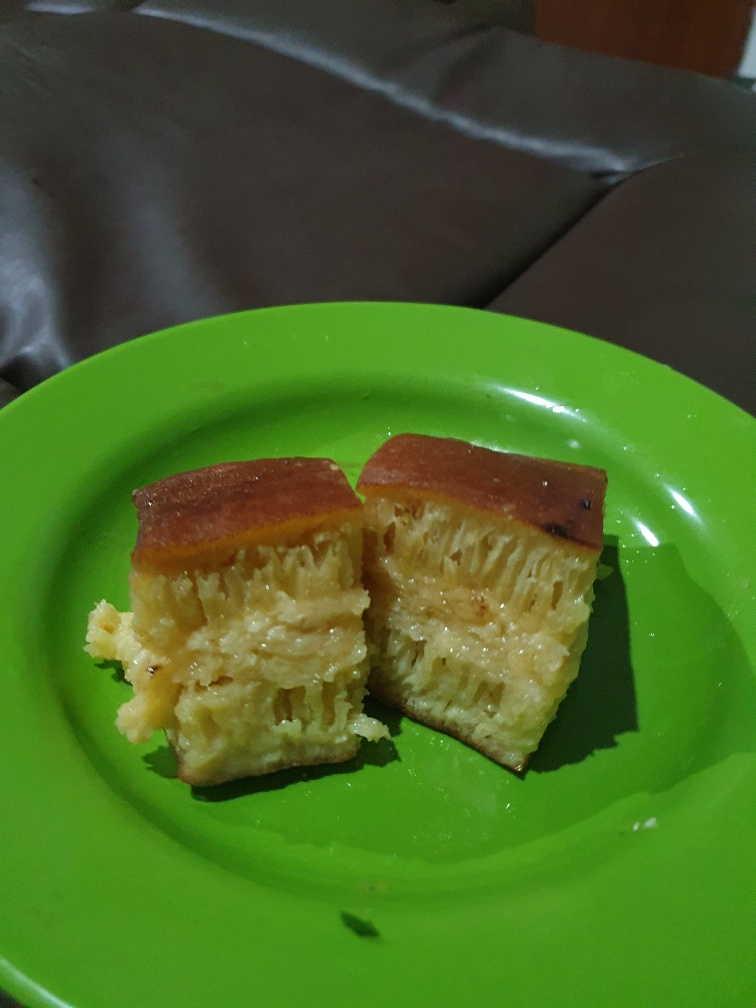martabak manis: (363, 410, 609, 796), (121, 452, 379, 770)
